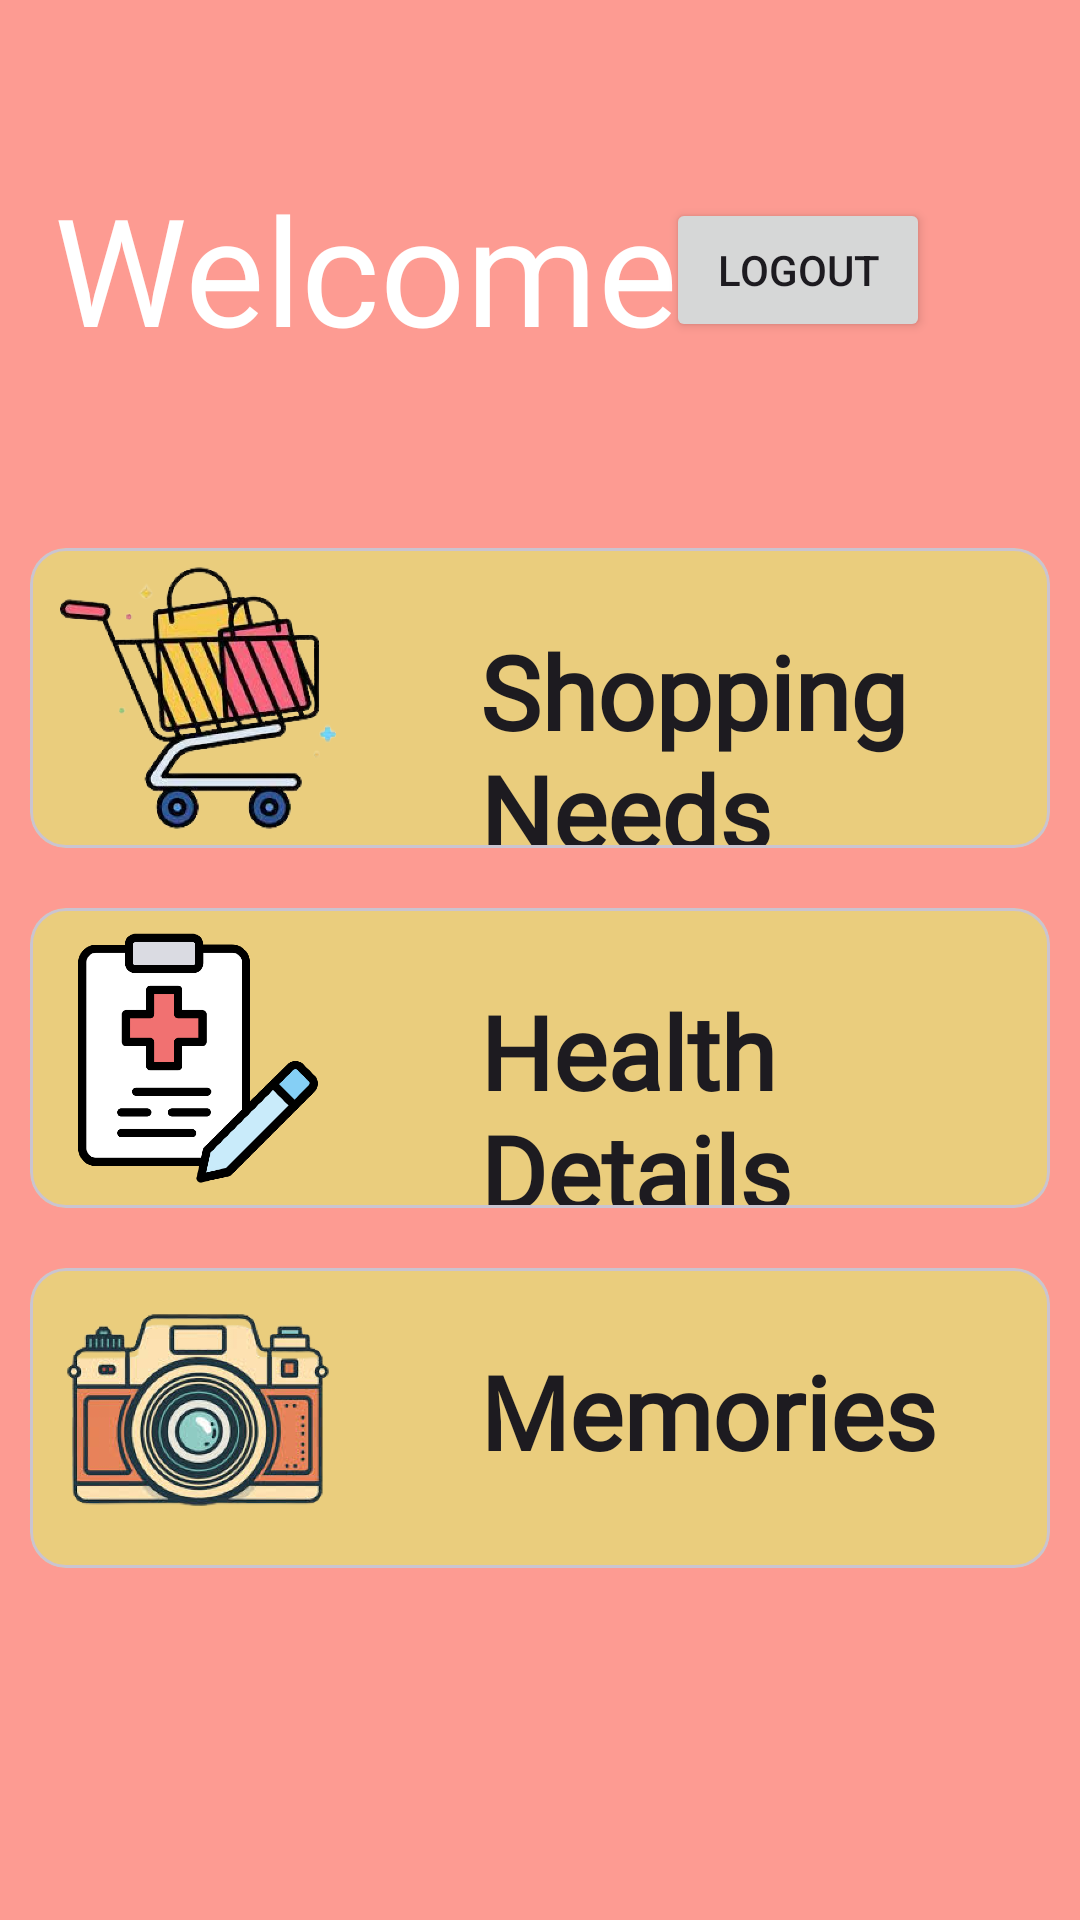

Icons on this 1080px x 1920px Android screen, each with the point to tap as (x=x, y=y):
cam: (x=198, y=1418)
medicalimg: (x=198, y=1058)
